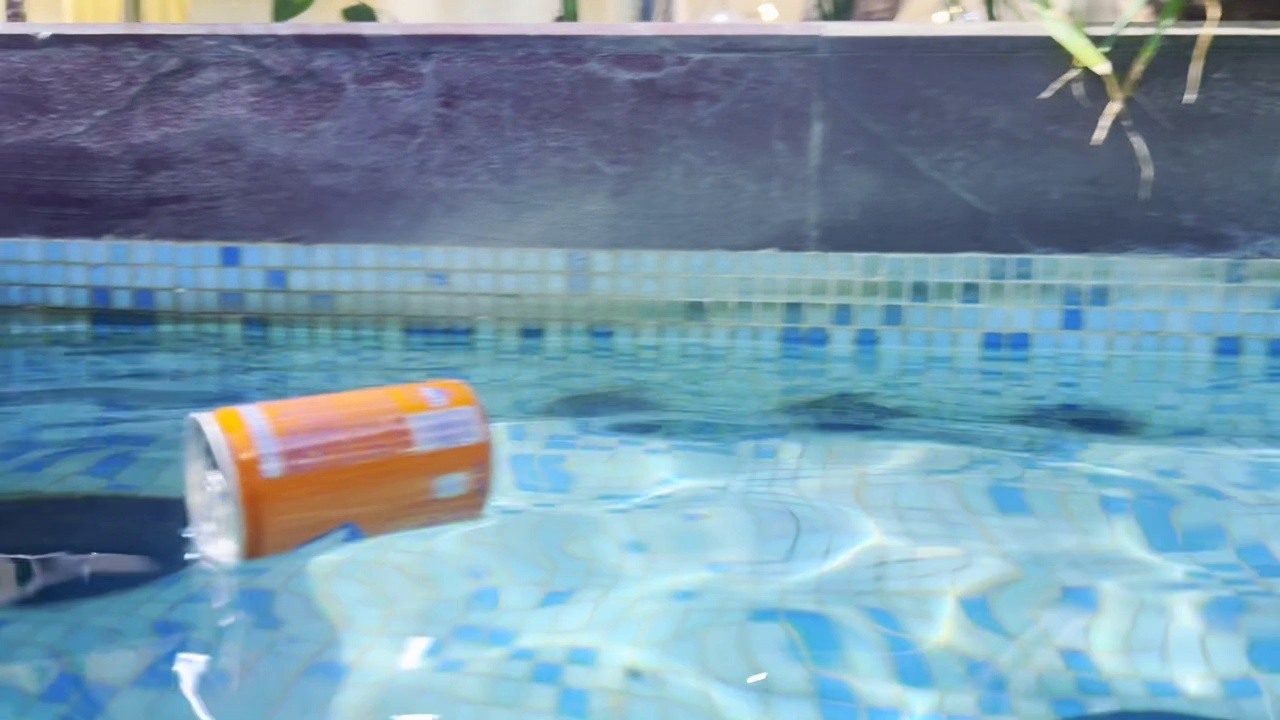debris: (161, 373, 503, 571)
